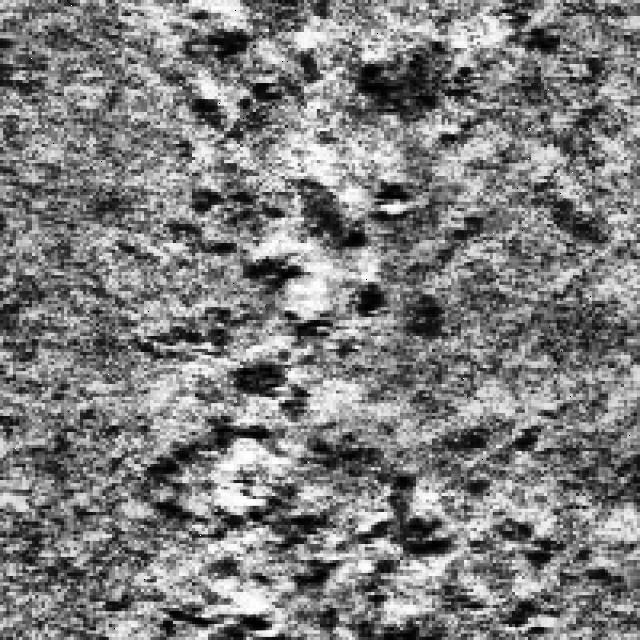Crazing: (124, 394, 566, 636), (186, 128, 420, 419), (176, 0, 339, 160), (355, 32, 493, 144)
